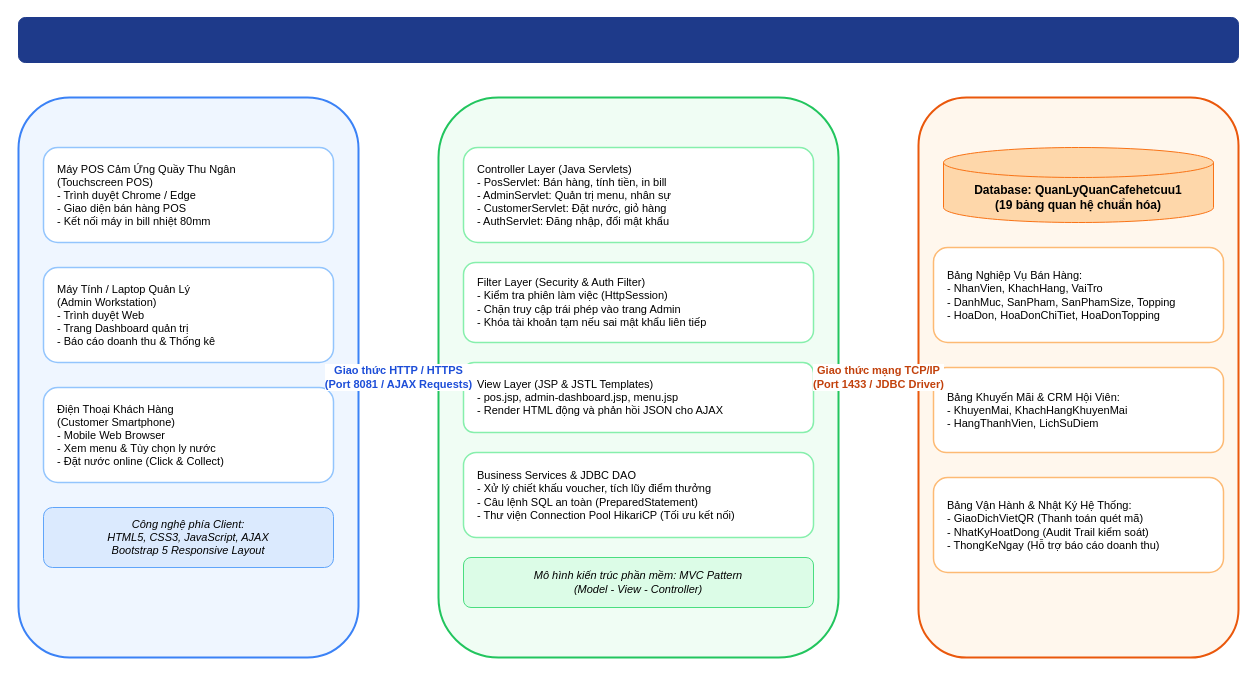
This 1256x676 diagram has some shape labels left out. Each missing label, with the box of its shape:
HỆ THỐNG TEA POS - MÔ HÌNH KIẾN TRÚC TRIỂN KHAI 3 TẦNG (3-TIER ARCHITECTURE): (18, 16, 1238, 62)
TẦNG CLIENT (Presentation Tier): (17, 96, 359, 658)
TẦNG CƠ SỞ DỮ LIỆU (Data Tier) Microsoft SQL Server 2022 - Port 1433: (917, 96, 1239, 658)
TẦNG ỨNG DỤNG (Web Application Tier) Apache Tomcat 11 - Port 8081 | Java 21 LTS: (437, 96, 839, 658)
